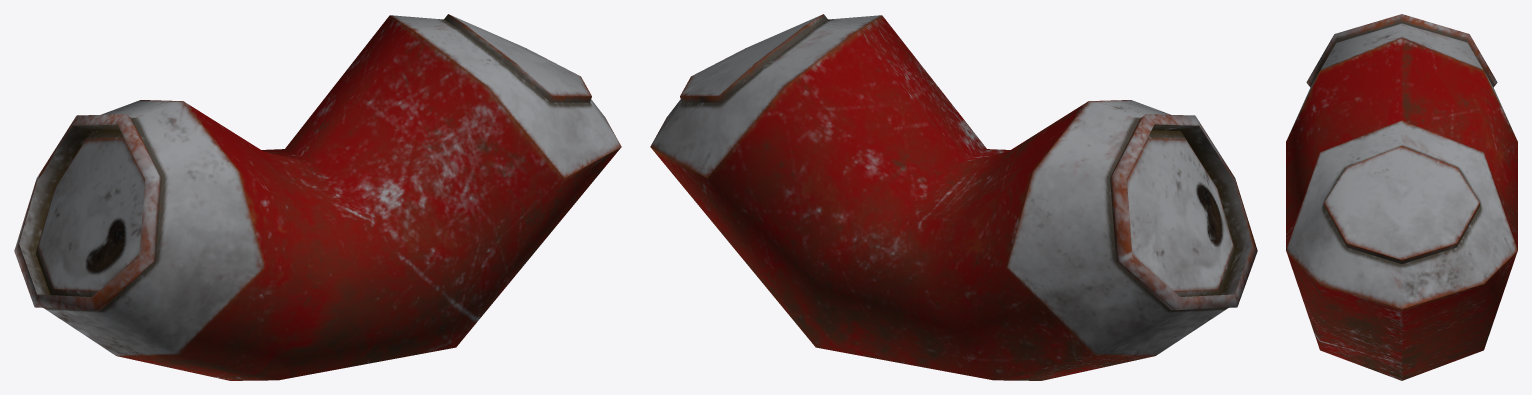
File: soft_can.dae
The picture shows the model from 3 angles, left to right: view 1: azimuth 30°, elevation 25°; view 2: azimuth 150°, elevation 25°; view 3: azimuth 270°, elevation 25°; orthographic projection. The views are drawn at different scales.
Parts seen in each view (by area): view 1: Can_03_GEO; view 2: Can_03_GEO; view 3: Can_03_GEO.
Boxes of the visible parts, x1,y1,x2,y2 form: Can_03_GEO: (14,14,621,380); Can_03_GEO: (650,14,1257,380); Can_03_GEO: (1286,14,1517,380).
Size of the model in its own units: 0.1465 by 0.0617 by 0.0749.
Materials: 1 (1 with a texture image).
